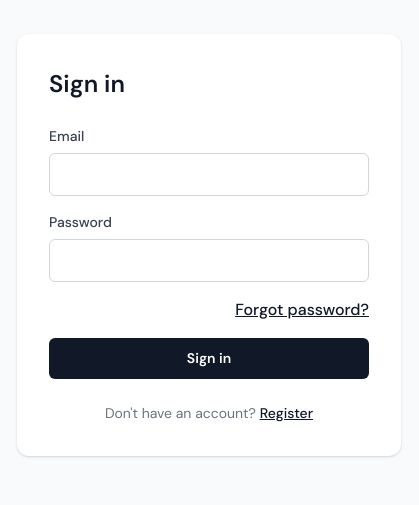
Test: Login page › shows error state when login fails
Type "bad@example.com" into the field labelled "Email". click: (209, 174)
box: [49,153,369,196]
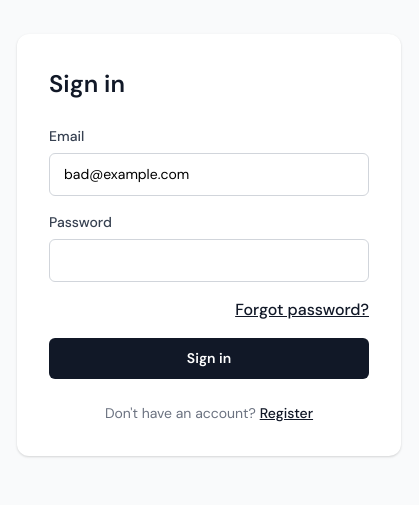
Type "wrong" into the password field labelled "Password". click: (209, 260)
box: [49,239,369,282]
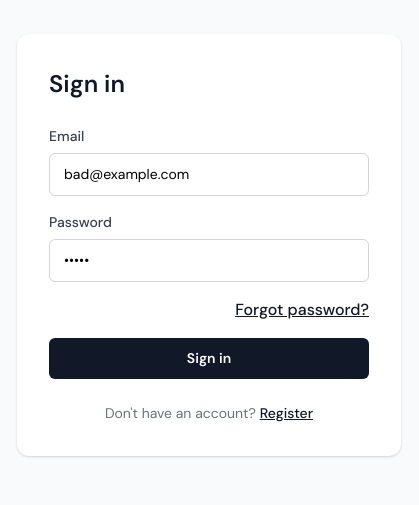
Click the button "Sign in". click: (209, 358)
box: [49,338,369,379]
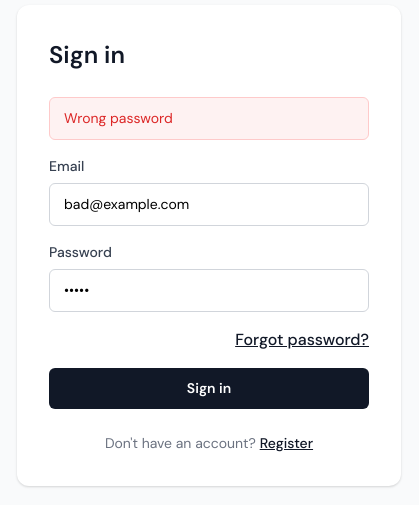
Expected: the text "Wrong password" is shown, [49,96,369,140]
